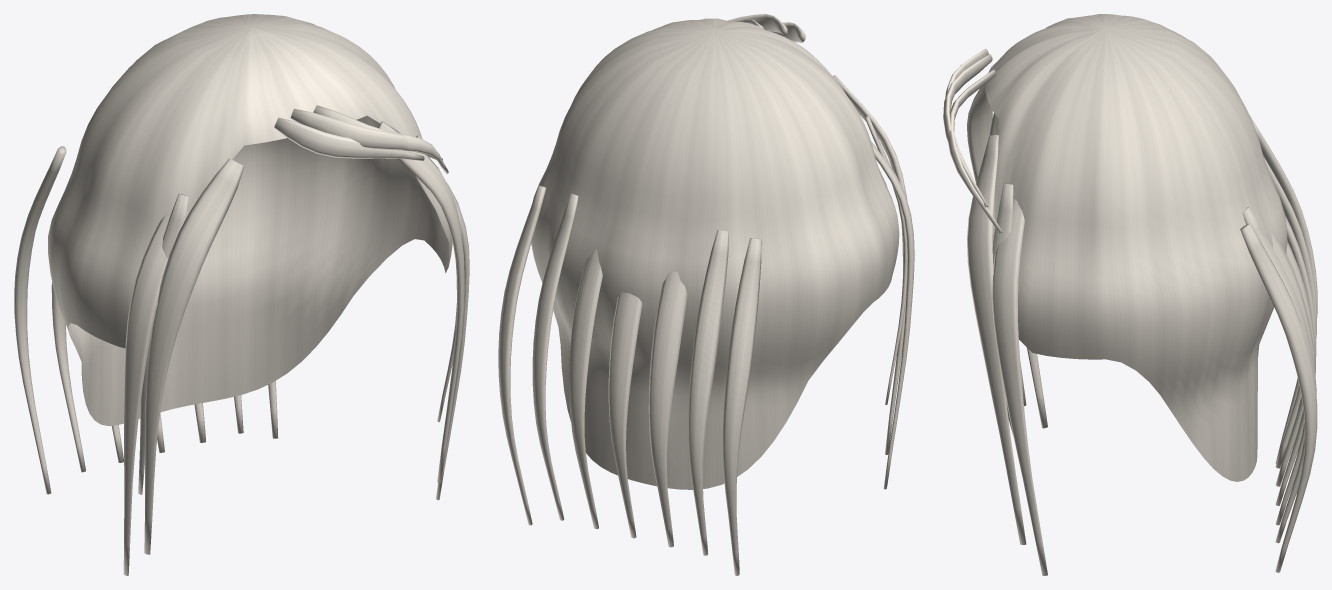
3 views of the same model, side by side, from view 1: azimuth 30°, elevation 25°; view 2: azimuth 150°, elevation 25°; view 3: azimuth 270°, elevation 25° (orthographic). The views are drawn at different scales.
Parts seen in each view (by area): view 1: Portrait hair p4; view 2: Portrait hair p4; view 3: Portrait hair p4.
Boxes of the visible parts, <box> form: Portrait hair p4: <box>14,14,469,575</box>; Portrait hair p4: <box>498,14,914,575</box>; Portrait hair p4: <box>943,14,1317,575</box>.
Size of the model in its own units: 1.11 by 1.49 by 1.03.
1 material, 1 textured.
